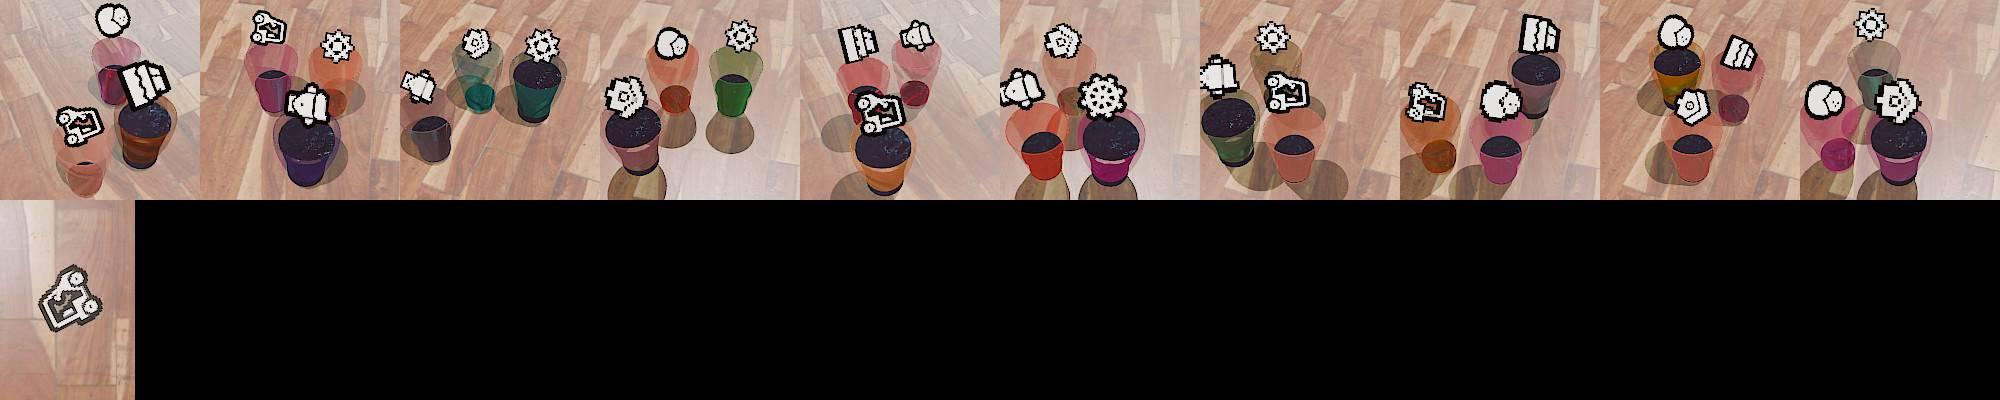icon: (36, 264, 103, 334), (116, 59, 174, 110), (852, 87, 907, 135), (1075, 73, 1128, 121), (1263, 70, 1312, 117), (1874, 76, 1923, 123), (54, 103, 105, 147), (283, 81, 330, 126), (999, 66, 1046, 110), (603, 74, 648, 118), (1518, 12, 1562, 56), (1478, 79, 1522, 121), (1199, 53, 1240, 98), (1405, 79, 1447, 122), (837, 23, 880, 65), (1803, 79, 1845, 118), (1042, 21, 1083, 60), (1671, 86, 1712, 125), (249, 9, 288, 47), (1656, 13, 1695, 51), (1720, 34, 1759, 71), (522, 27, 561, 63), (94, 3, 131, 40), (400, 68, 436, 104), (1254, 20, 1291, 55), (1853, 7, 1890, 42), (724, 19, 760, 54), (653, 26, 689, 61), (319, 28, 354, 64), (899, 18, 935, 50), (459, 27, 493, 60)
